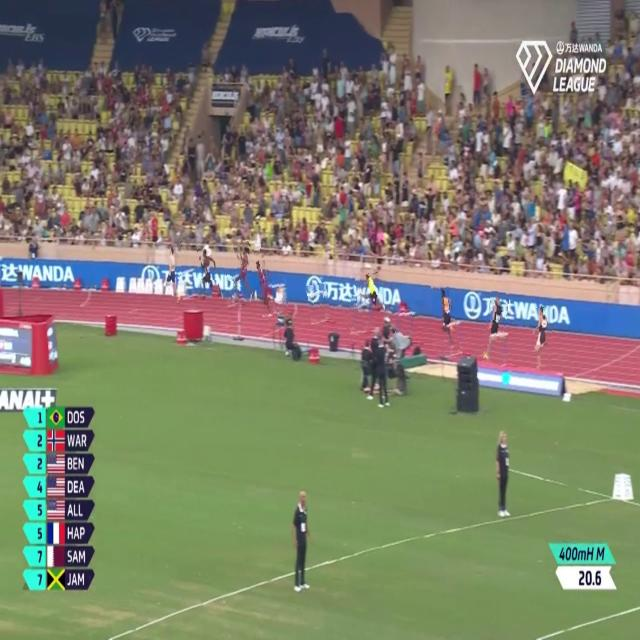athlete: (433, 281, 458, 357), (530, 300, 553, 373), (484, 292, 507, 364), (234, 240, 258, 304), (256, 259, 276, 325), (162, 236, 181, 305), (355, 272, 384, 317), (198, 242, 218, 298)
hurdle: (348, 295, 373, 338), (487, 327, 509, 372), (445, 314, 467, 358), (266, 278, 290, 317), (308, 283, 331, 323), (395, 307, 419, 339), (227, 271, 246, 309)
